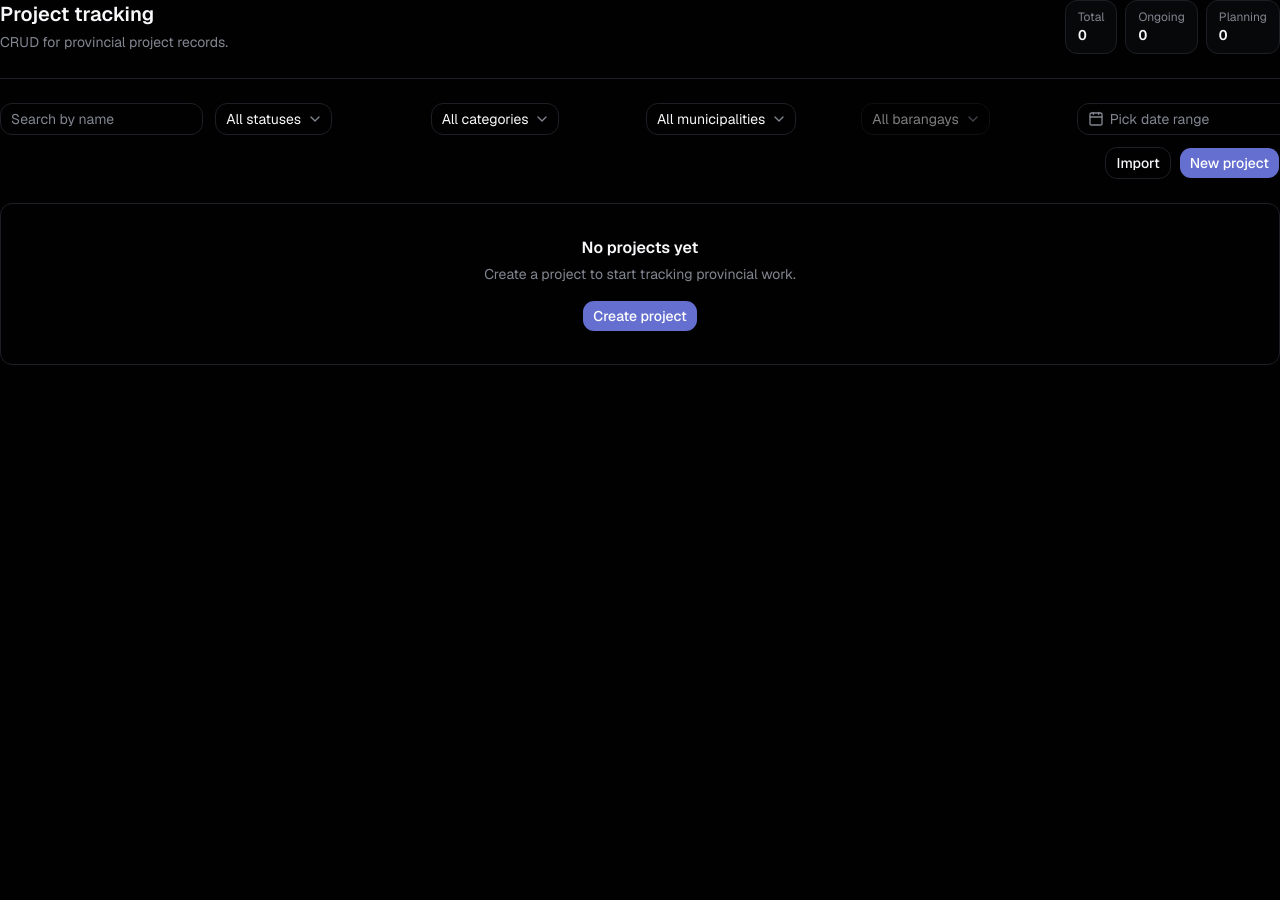
Test: ProjectsModule (J4) › should show a required mark on required project name
The image size is (1280, 900).
Click the button with test id "create-project" at point(1229, 163), box [1179,147,1279,179]
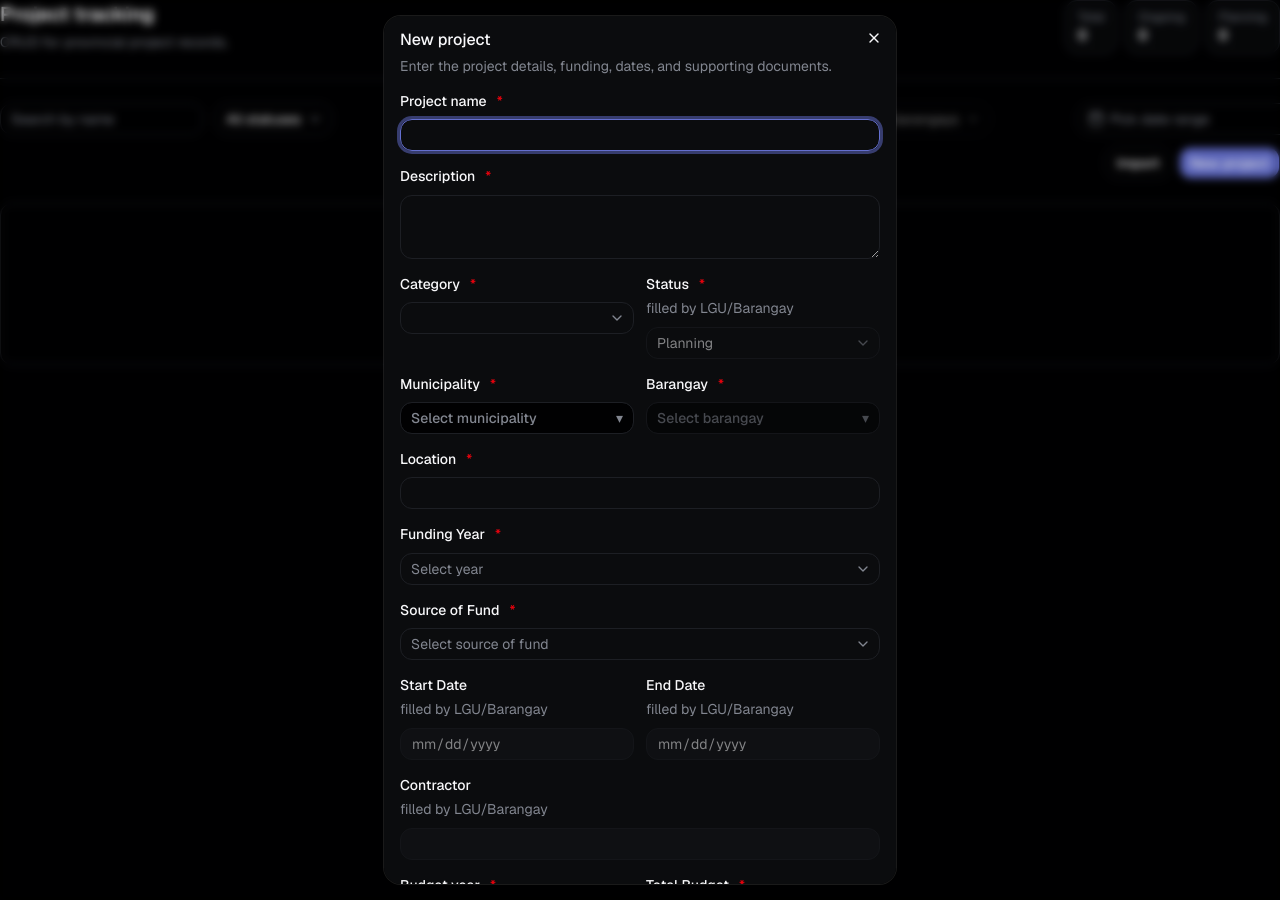
Now the text "Project name" is shown, box [400,92,487,110]
Now the text "Description" is shown, box [400,167,475,185]
Now the text "Funding Year" is shown, box [400,525,485,543]
